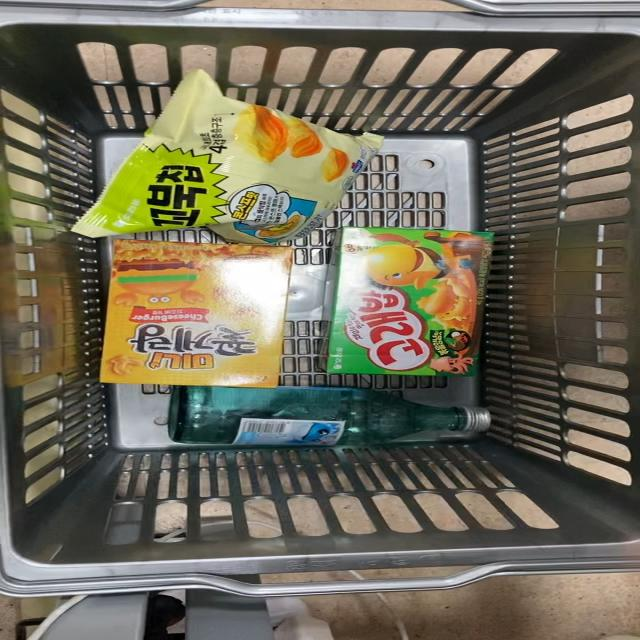ggobukchip: (60, 74, 378, 245)
goraebob: (327, 233, 491, 375)
jinro: (173, 390, 502, 454)
minicrab: (102, 232, 304, 388)
